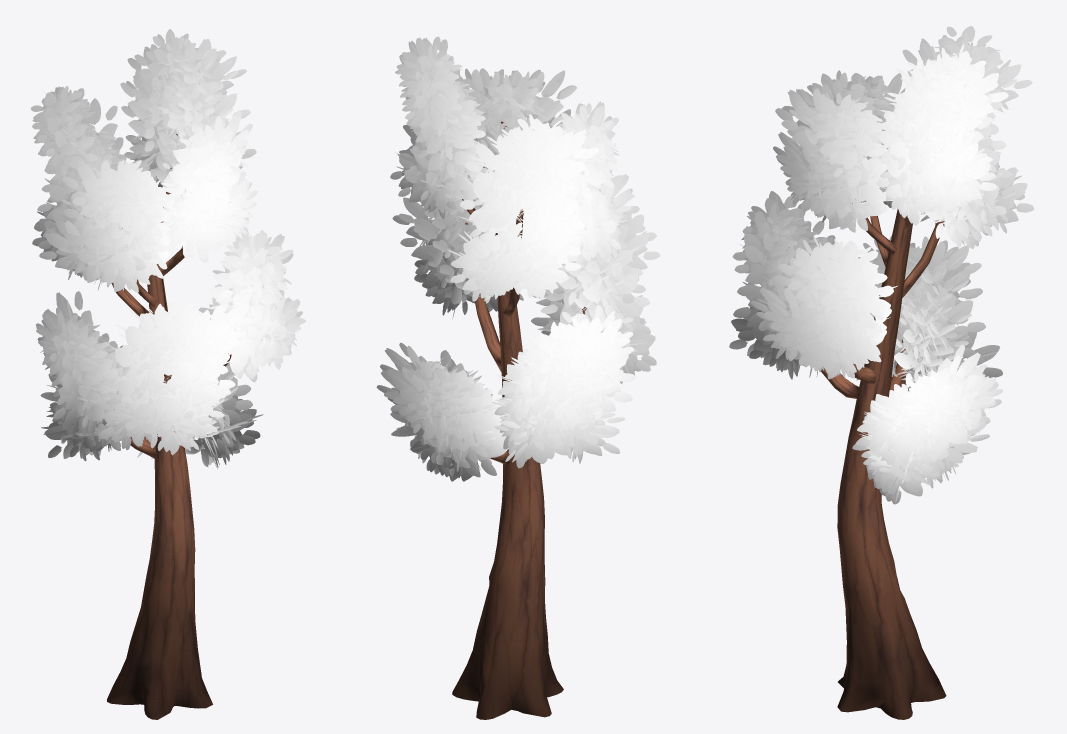
Rendered from CommonTree_3.glb.
3 views of the same model, side by side, from view 1: azimuth 30°, elevation 25°; view 2: azimuth 150°, elevation 25°; view 3: azimuth 270°, elevation 25° (orthographic). The views are drawn at different scales.
Visible parts, largest first — view 1: CommonTree_3; view 2: CommonTree_3; view 3: CommonTree_3.
Part boxes in pixels (x1=…): CommonTree_3: x1=30, y1=29, x2=305, y2=719; CommonTree_3: x1=376, y1=36, x2=660, y2=719; CommonTree_3: x1=729, y1=26, x2=1033, y2=719.
Size of the model in its own units: 4.06 by 9.43 by 4.24.
Materials: 2 (2 with a texture image).
